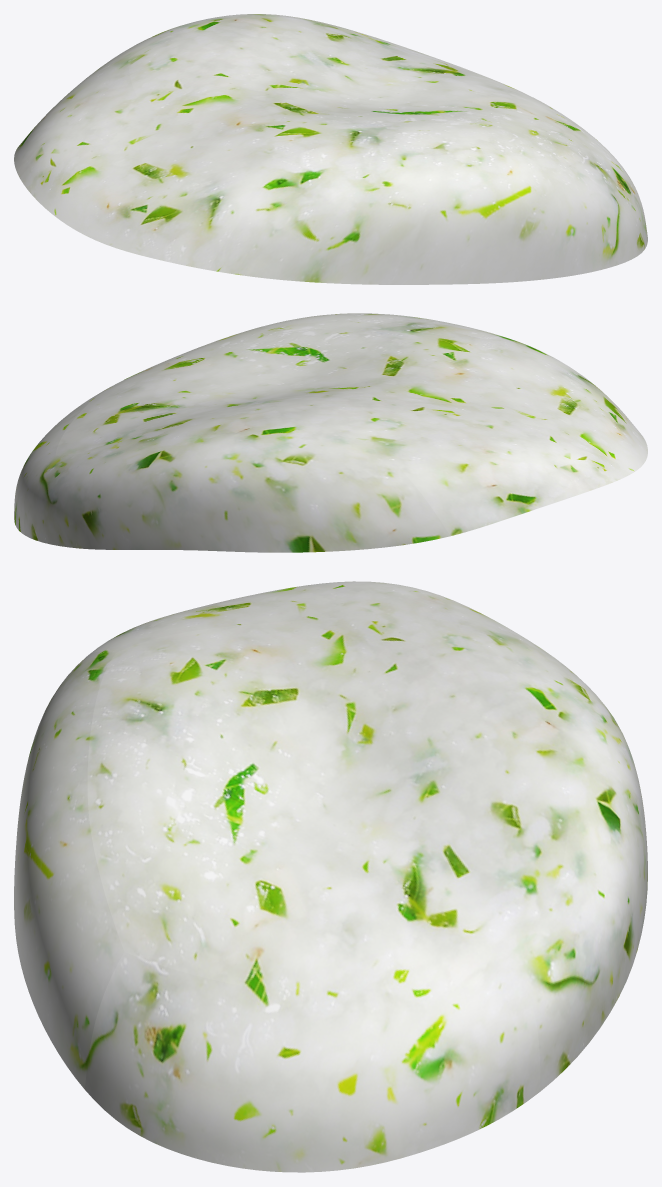
Rendered from only_porridge_for_small_spoon.FBX.
3 views of the same model, one above another, from view 1: azimuth 30°, elevation 25°; view 2: azimuth 150°, elevation 25°; view 3: azimuth 270°, elevation 25° (orthographic). The views are drawn at different scales.
Parts seen in each view (by area): view 1: Box003; view 2: Box003; view 3: Box003.
Boxes of the visible parts, x1=… form: Box003: x1=14, y1=14, x2=647, y2=284; Box003: x1=14, y1=313, x2=647, y2=552; Box003: x1=14, y1=581, x2=647, y2=1172.
Size of the model in its own units: 9.06 by 2.94 by 6.33.
Materials: 1 (1 with a texture image).
